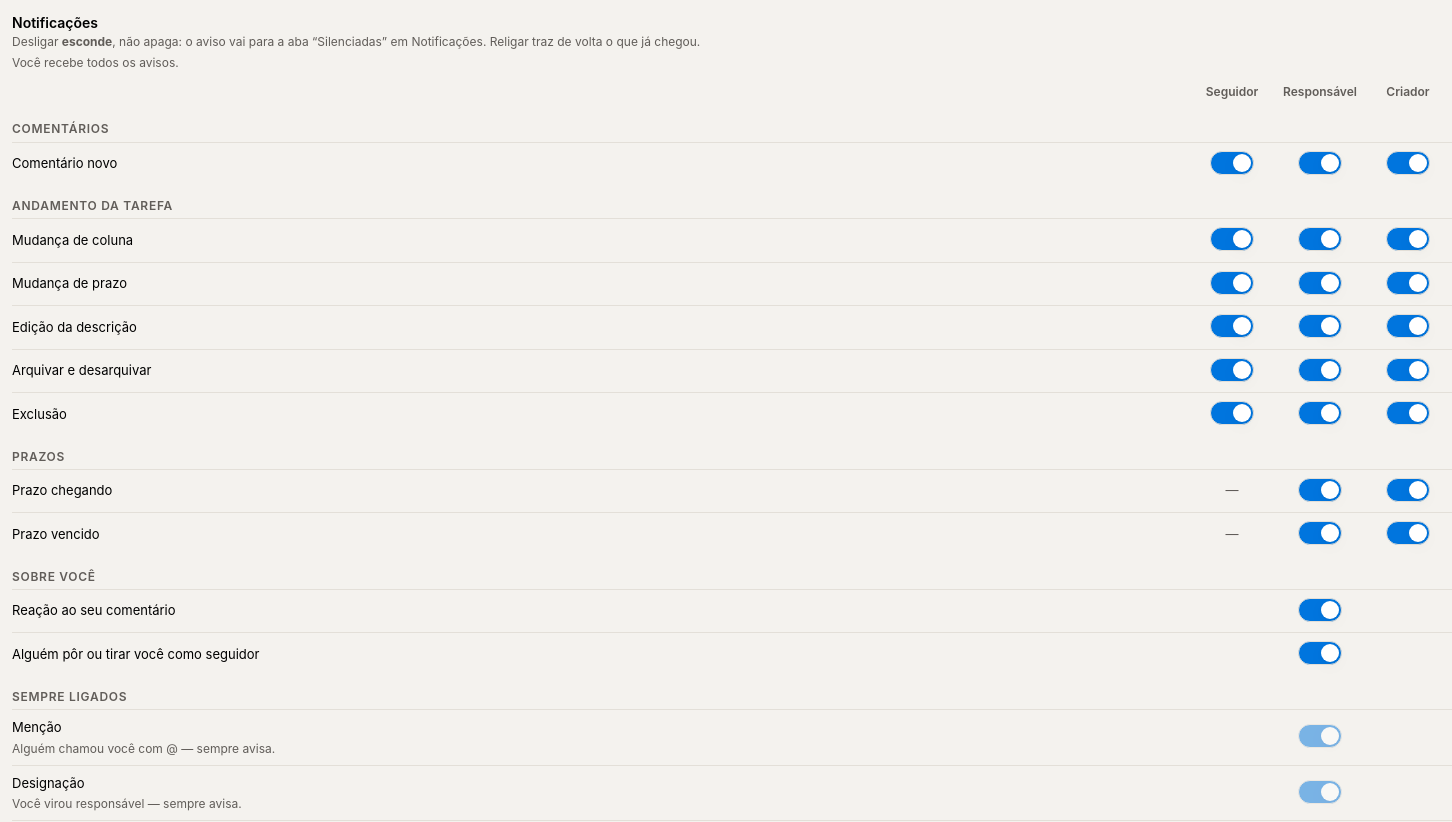
Test: gravar › clicar desliga na hora e manda o toggle
What coordinates should you click on to do the following:
click the switch named "Comentário novo, como seguidor"
I would click on:
 (1232, 163)
Its box is 1210,151 -> 1254,175.
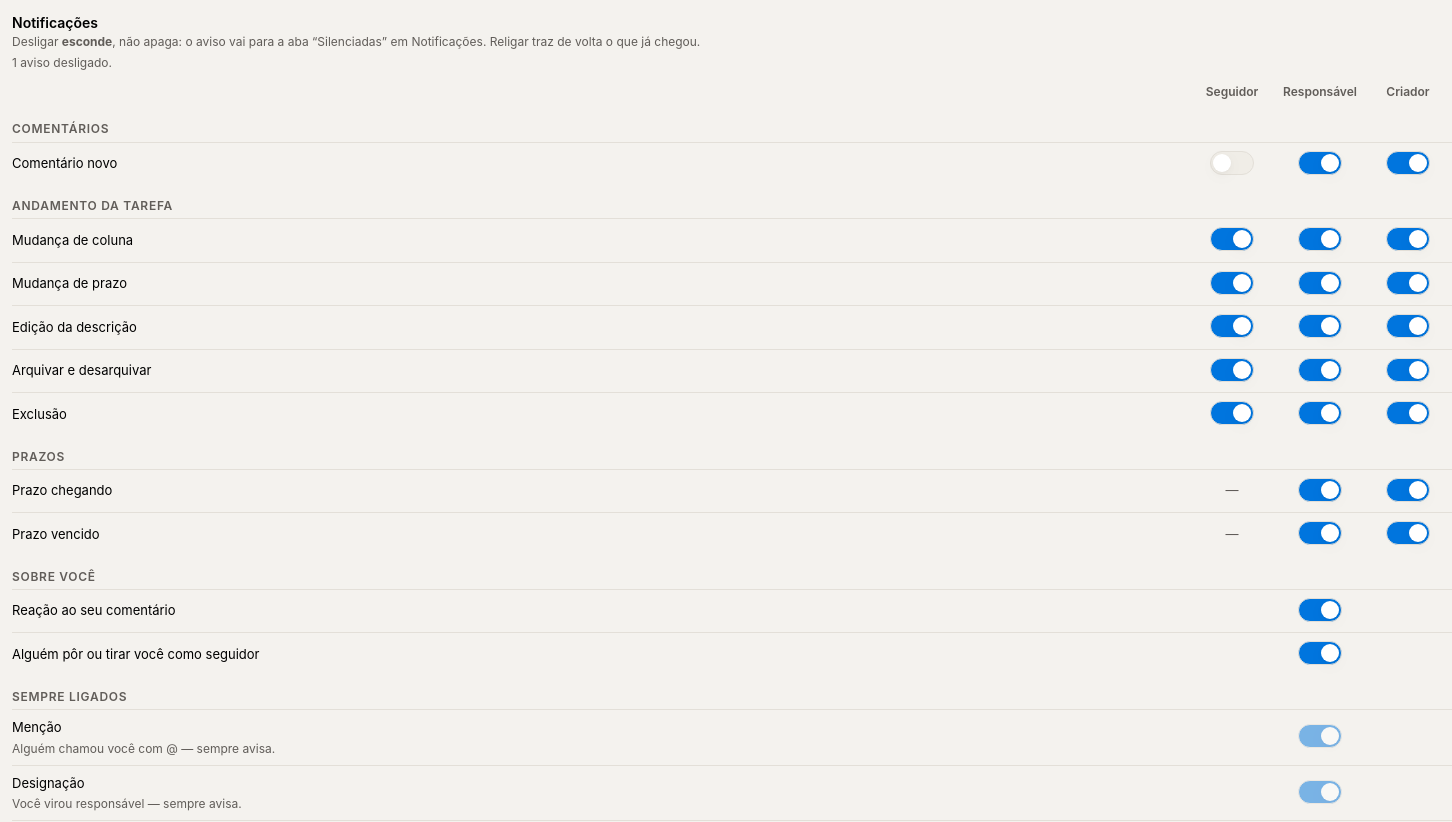
Result: the text "1 aviso desligado." is shown at 12,55 -> 112,70
